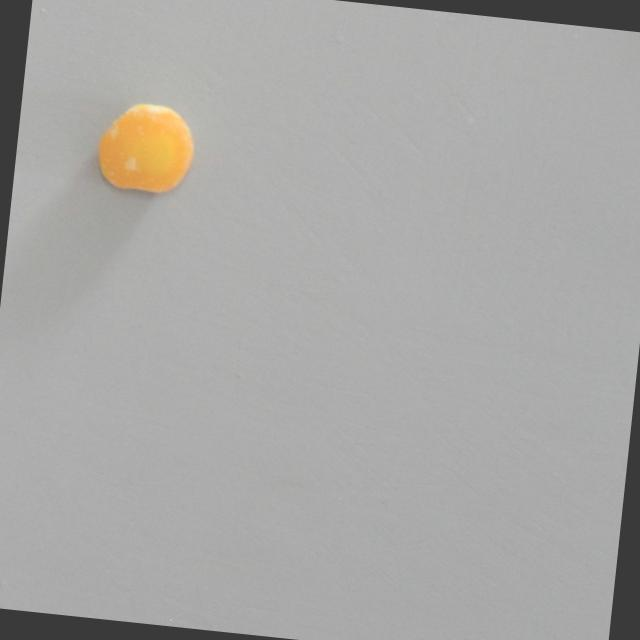no_canjicado: (92, 93, 201, 203)
